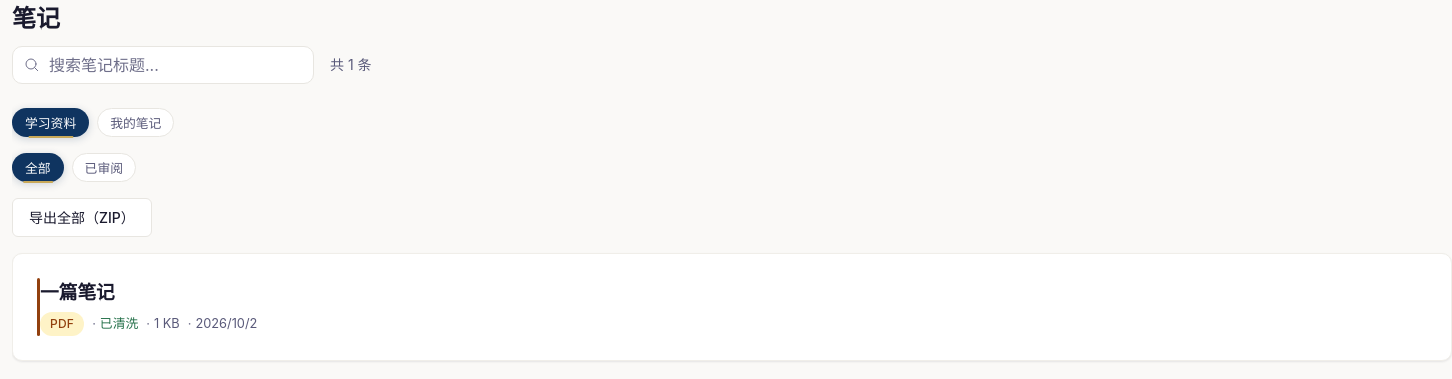
导出全部 › ★★ 搜索状态下**不显示** —— 否则用户会以为导的是搜出来的那些
This screenshot has width=1452, height=379.
Expected: the button "导出全部（ZIP）" is shown, [12,198,152,237]
Type "关键词" into the search field with placeholder "搜索笔记标题..." at (163, 65), box [12,46,314,84]
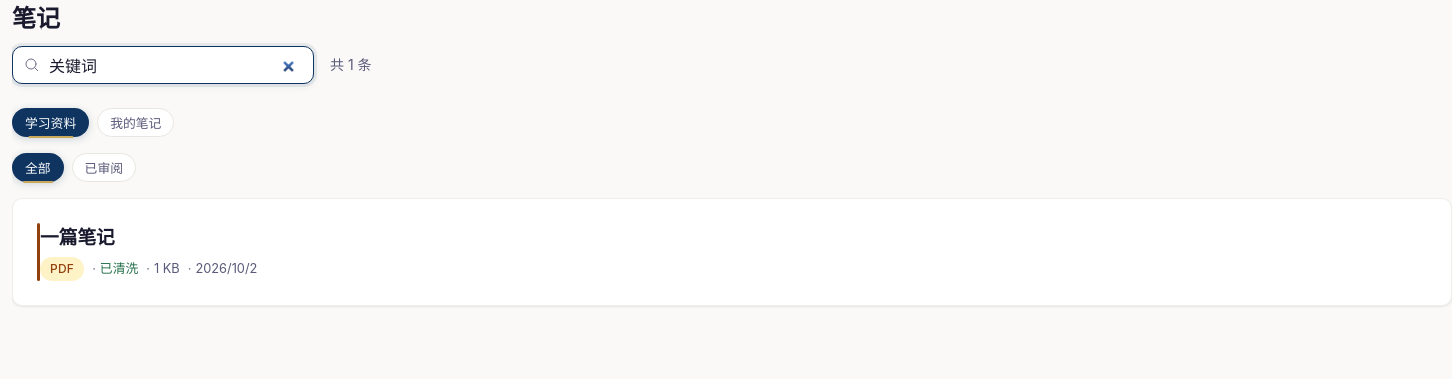
Result: the button "导出全部（ZIP）" is gone
